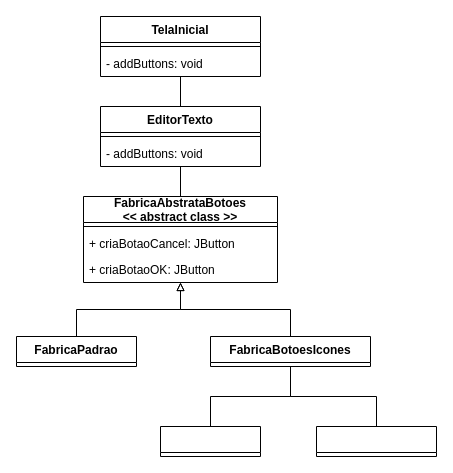
The diagram is 453 pixels wide and 473 high, and some of its shapes have lost their labels. Each missing label, with the centre of its shape:
"ButtonCancel" belongs at (376,441).
"ButtonOK" belongs at (210,441).
